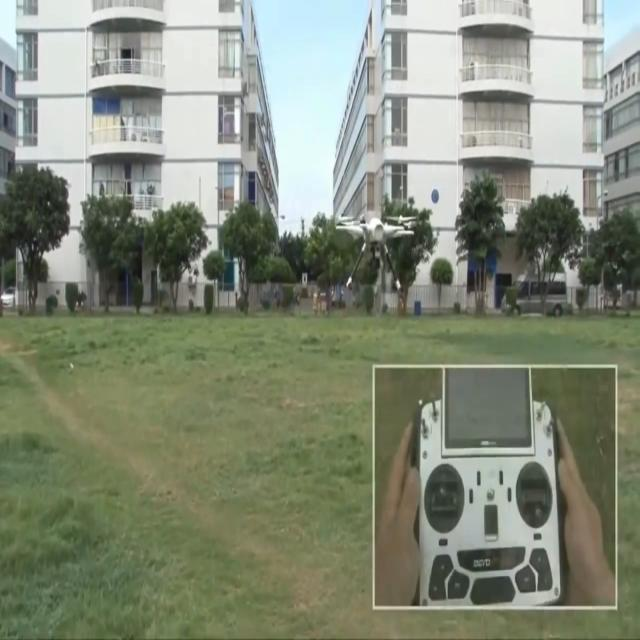drone: (334, 210, 420, 314)
